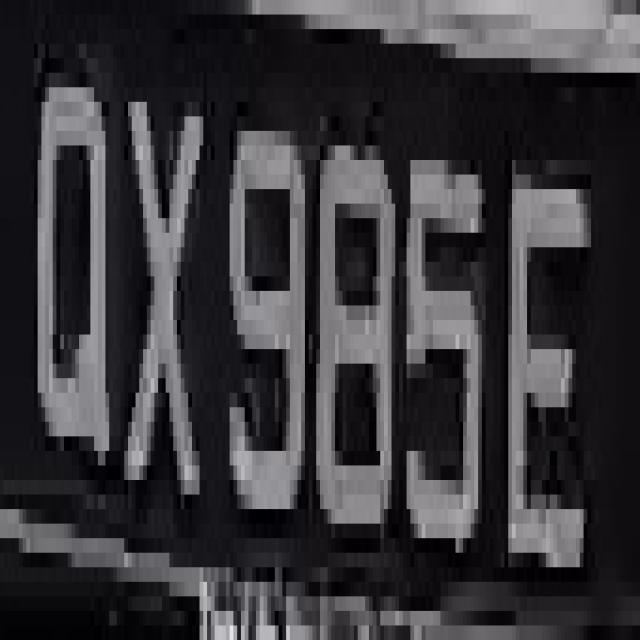5: (403, 88, 497, 568)
8: (301, 88, 388, 568)
9: (218, 87, 309, 553)
E: (501, 131, 591, 611)
Q: (15, 43, 117, 494)
X: (109, 44, 211, 509)
